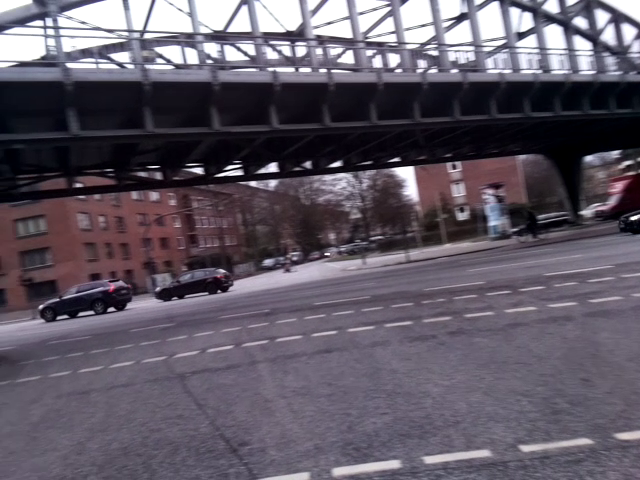car: (35, 280, 139, 314), (148, 265, 236, 298)
